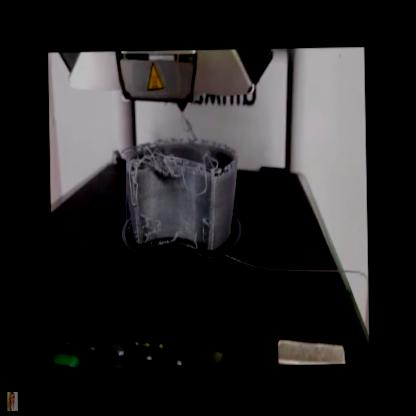fail: (137, 143, 217, 196), (140, 213, 199, 254)
